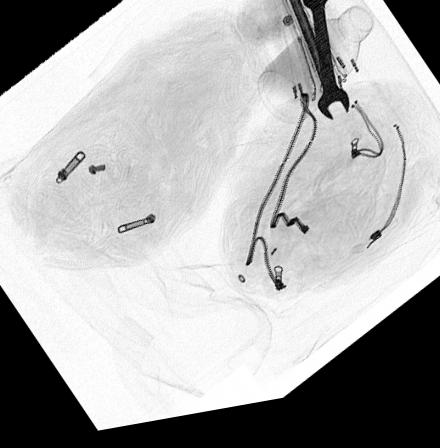Wrench: (301, 0, 351, 133)
